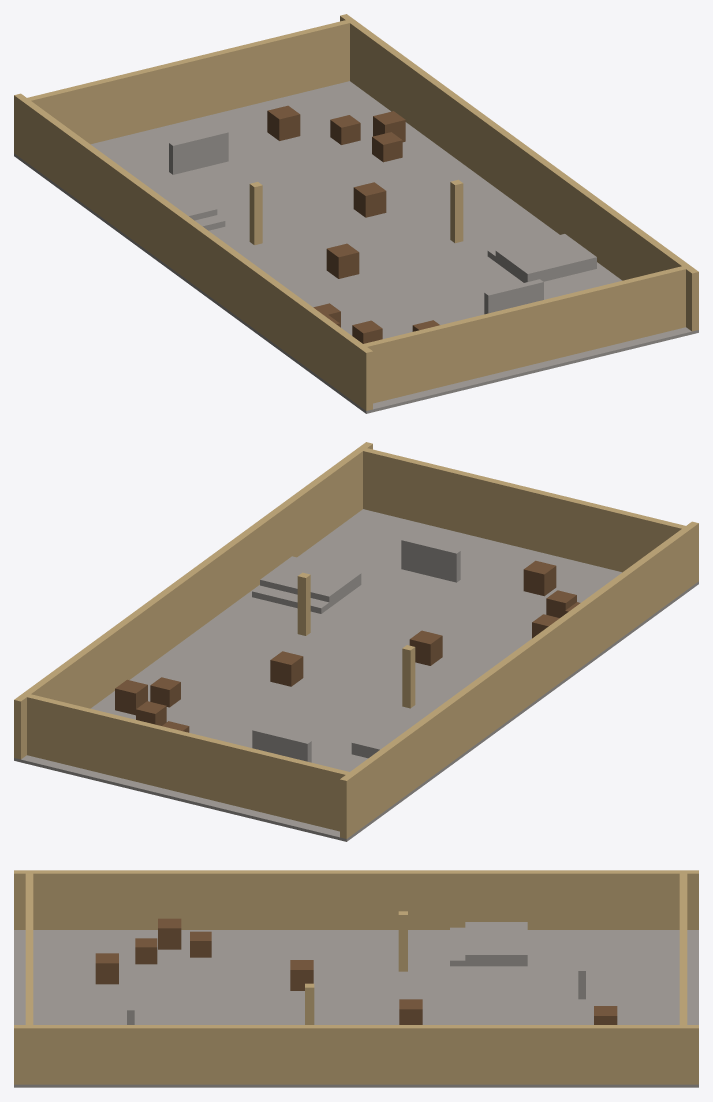
The model's file is de_greybox.glb.
3 views of the same model, one above another, from view 1: azimuth 30°, elevation 25°; view 2: azimuth 150°, elevation 25°; view 3: azimuth 270°, elevation 25° (orthographic). The views are drawn at different scales.
Visible parts, largest first — view 1: de_greybox; view 2: de_greybox; view 3: de_greybox.
Part boxes in pixels (x1,y1,x2,y2): de_greybox: (14, 14, 698, 413); de_greybox: (14, 442, 698, 841); de_greybox: (14, 870, 698, 1087).
Bounding box in the file's own units: 24 × 4.2 × 44.
